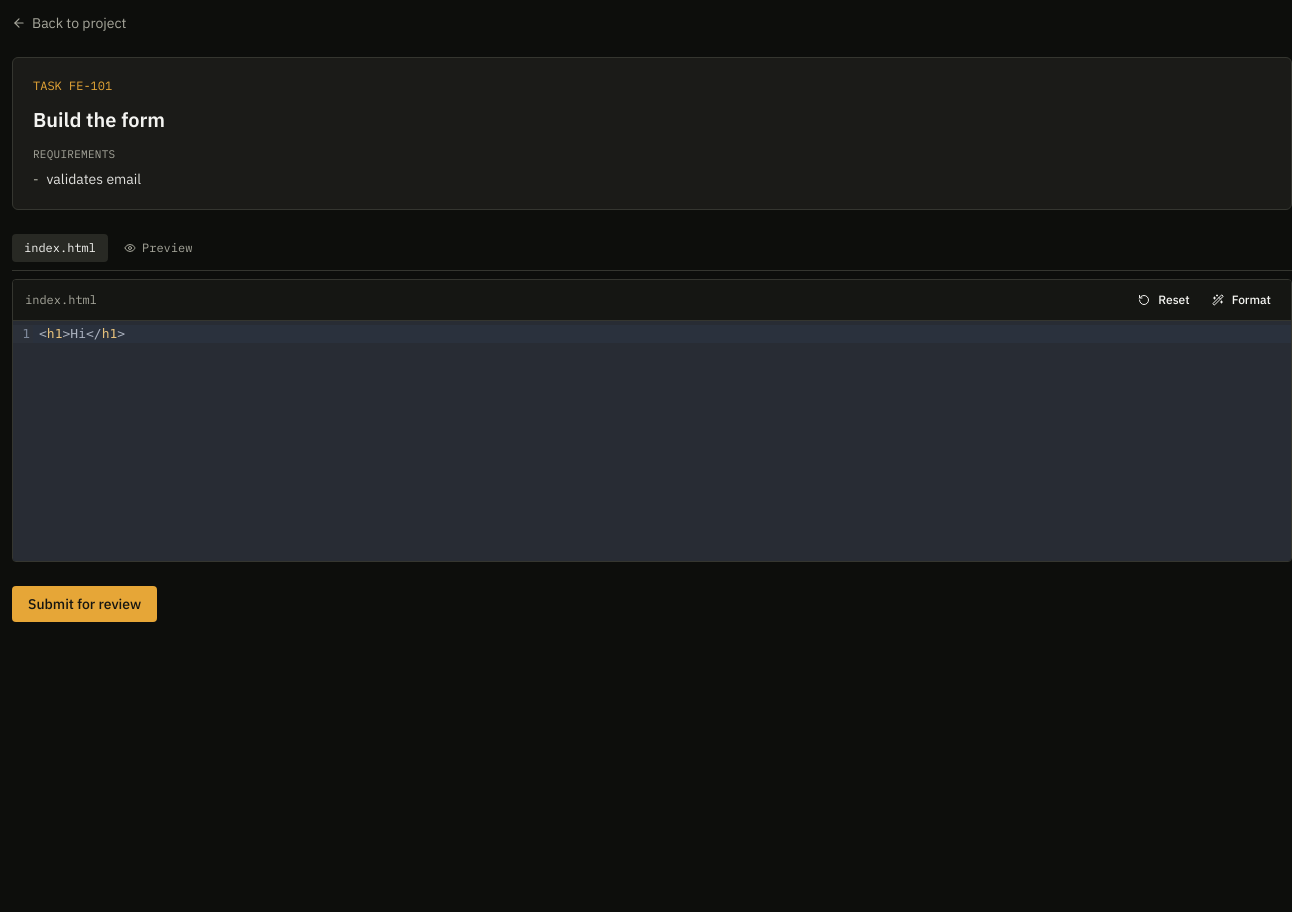
Test: ProjectTaskRunner › when the review request fails › falls back to the review-specific message otherwise
Click the button "Submit for review". click: (85, 604)
box: [12, 586, 157, 622]
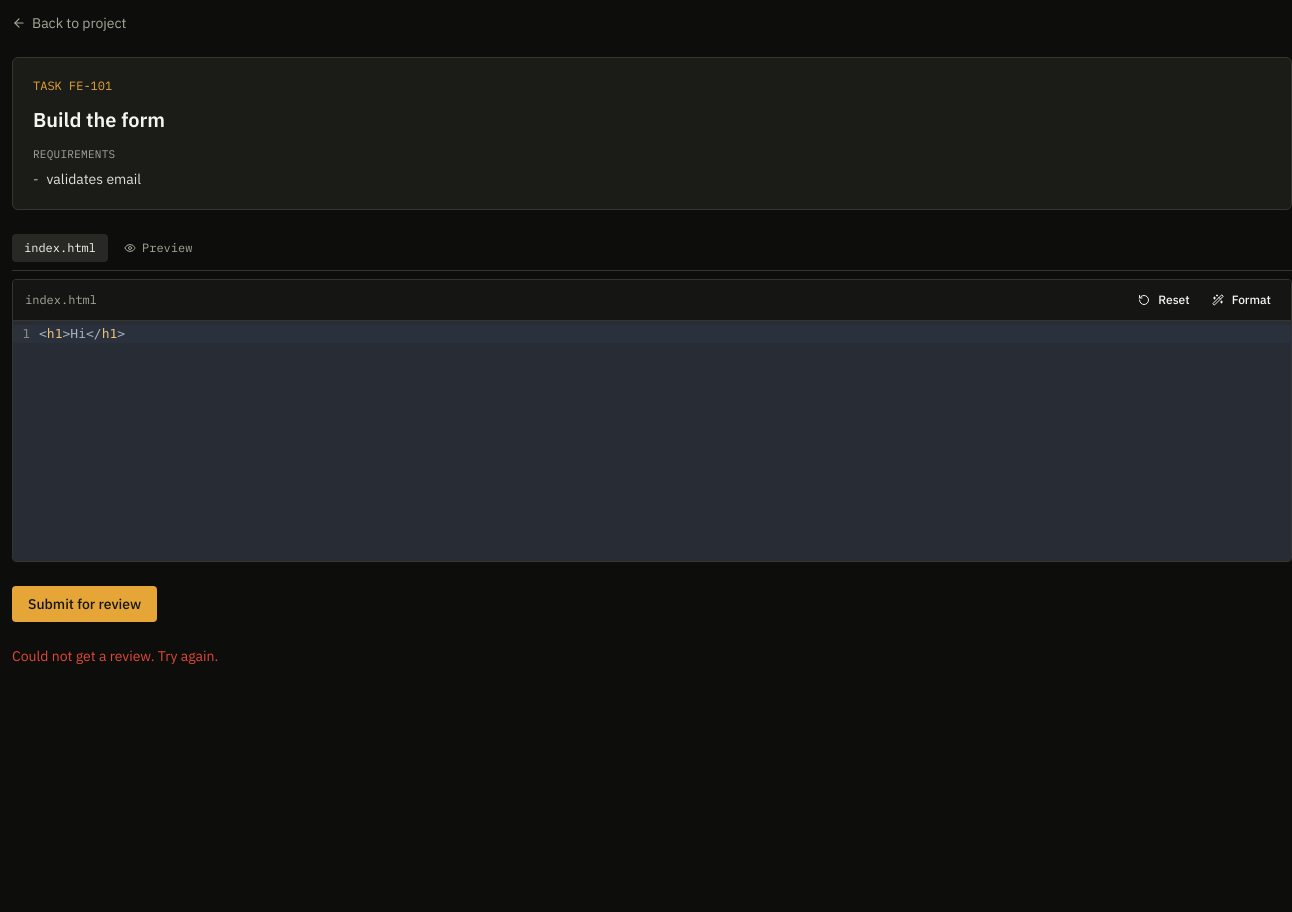
Expected: the message reads "Could not get a review. Try again.", [12, 646, 218, 664]
